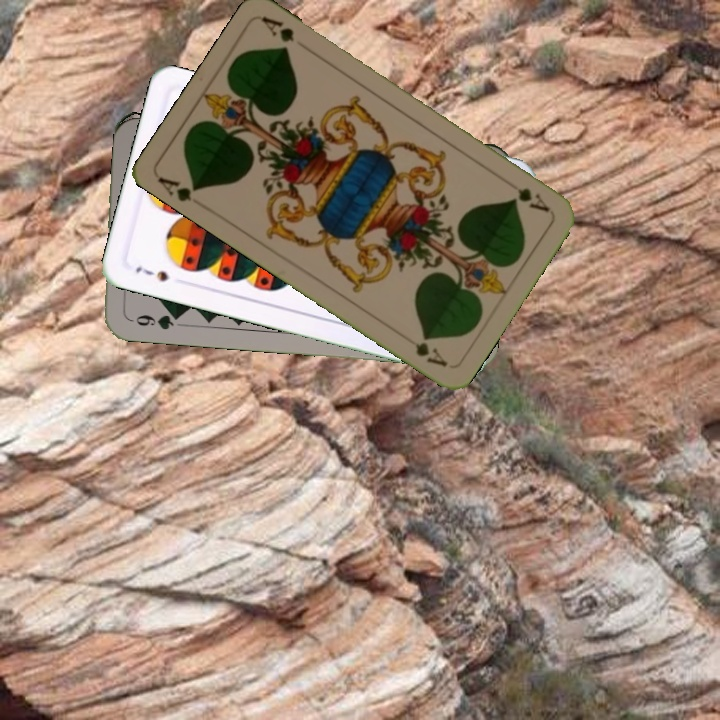G9: (123, 309, 183, 333)
GA: (501, 176, 552, 215), (154, 173, 204, 204)
S7: (131, 262, 172, 285)
